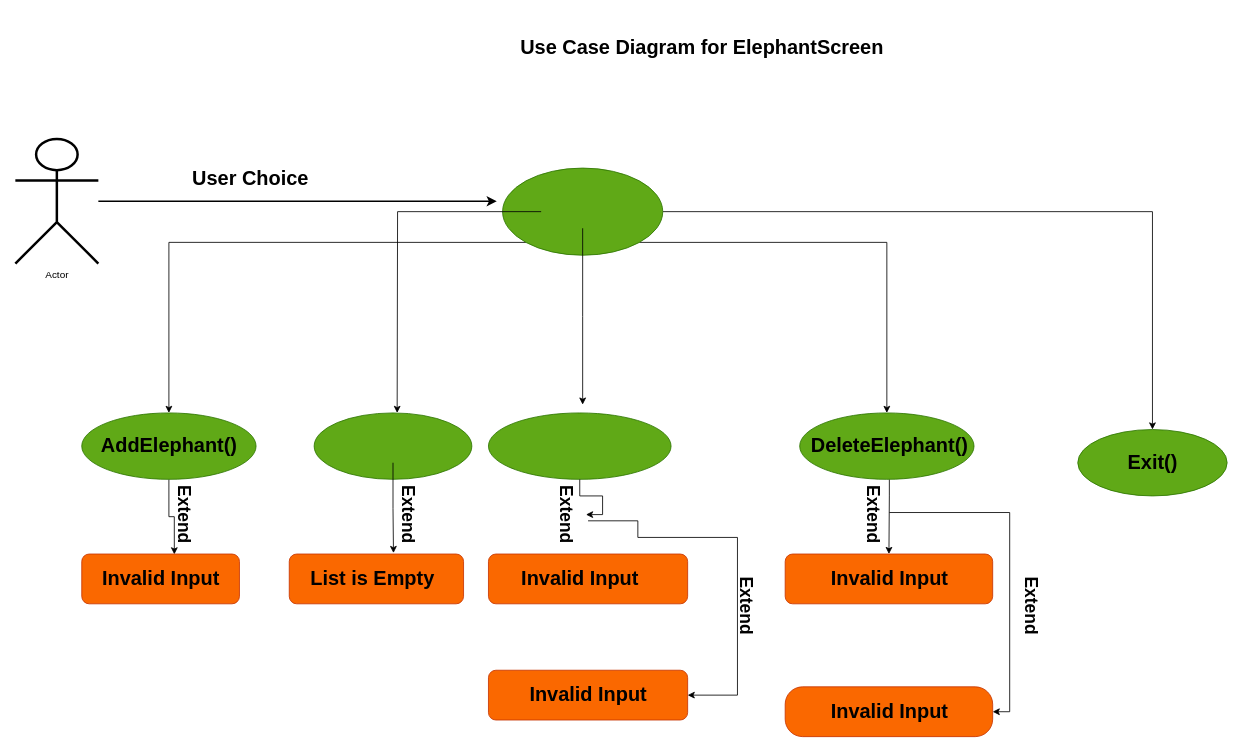
Some shapes in this 1242 by 751 pixel diagram are drawn without their labels. The box of each missing label's shape, as (x1, y1, x2, y2) in pixels:
ListElephant(): (313, 412, 472, 479)
ModifyElephant(): (488, 412, 671, 479)
Show(): (502, 167, 663, 255)
